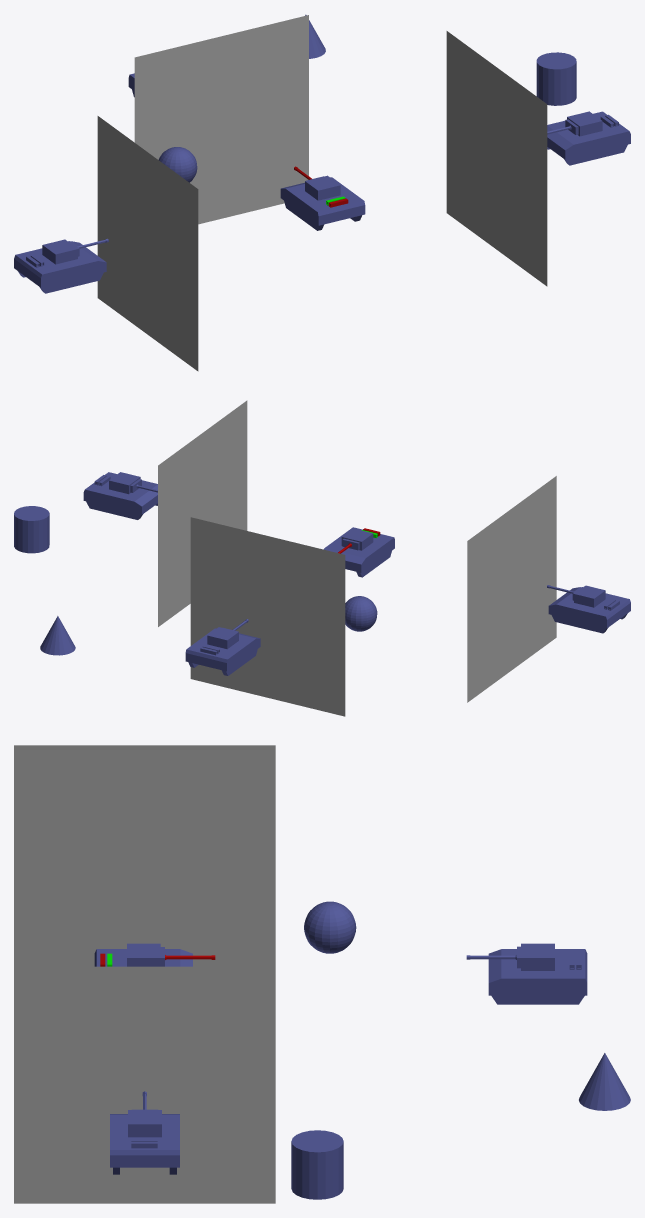
The picture shows the model from 3 angles, top to bottom: view 1: azimuth 30°, elevation 25°; view 2: azimuth 150°, elevation 25°; view 3: azimuth 270°, elevation 25°; orthographic projection. The views are drawn at different scales.
Visible parts, largest first — view 1: pPlane2, pPlane1, pPlane3, BaseTanke (×3), BaseCanon (×3), Cylinder1, Sphere1; view 2: pPlane2, pPlane3, pPlane1, BaseTanke (×4), BaseCanon (×4), Cylinder1, Sphere1, Cone1; view 3: pPlane1, pPlane3, BaseTanke (×3), Cylinder1, BaseCanon (×3), Sphere1, Cone1.
Part boxes in pixels (x1,y1,x2,y2): pPlane2: (134,15,308,224); pPlane1: (446,31,547,286); pPlane3: (97,116,198,371); BaseTanke (×3): (14,111,630,293); BaseCanon (×3): (42,111,602,264); Cylinder1: (536,52,576,105); Sphere1: (158,147,197,182); pPlane2: (190,517,345,716); pPlane3: (467,476,556,702); pPlane1: (158,400,247,626); BaseTanke (×4): (83,472,630,675); BaseCanon (×4): (109,472,605,649); Cylinder1: (14,506,49,553); Sphere1: (345,596,377,631); Cone1: (40,616,75,655); pPlane1: (14,966,275,1203); pPlane3: (14,745,275,966); BaseTanke (×3): (94,949,587,1174); Cylinder1: (291,1130,343,1199); BaseCanon (×3): (127,943,554,1137); Sphere1: (304,901,356,953); Cone1: (579,1053,630,1110).
Size of the model in its own units: 35.15 by 10 by 23.59.
